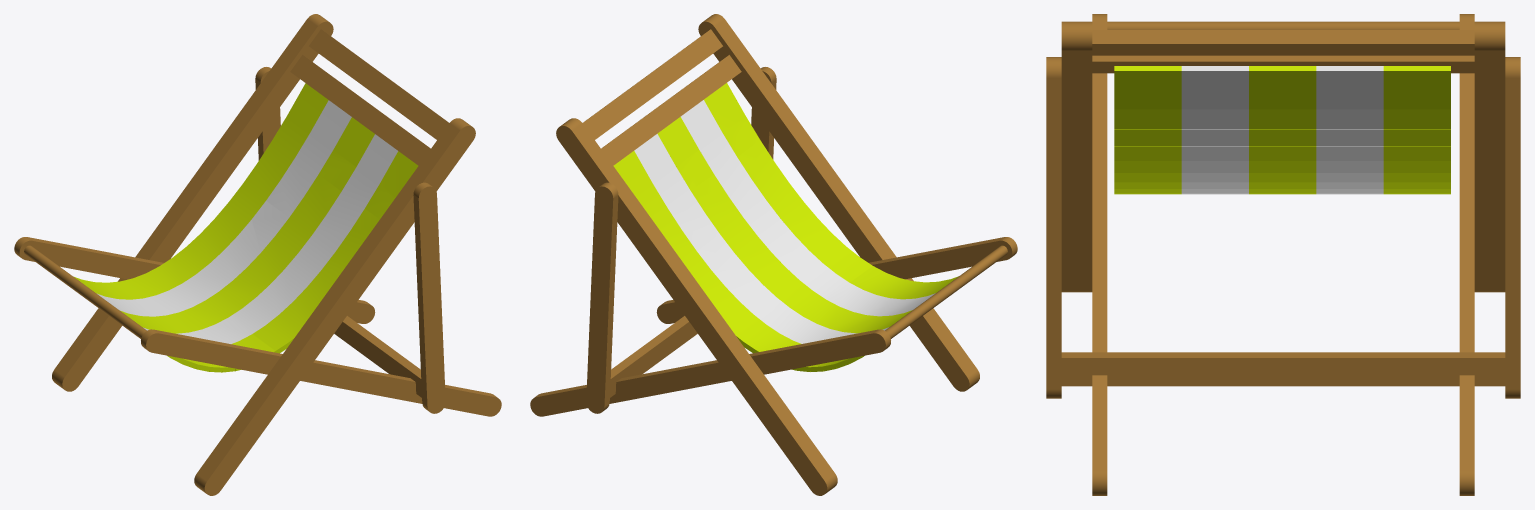
The model's file is sunchair.glb.
3 views of the same model, side by side, from view 1: azimuth 30°, elevation 25°; view 2: azimuth 150°, elevation 25°; view 3: azimuth 270°, elevation 25° (orthographic). The views are drawn at different scales.
Parts seen in each view (by area): view 1: s_s.002, s_s.001; view 2: s_s.002, s_s.001; view 3: s_s.002, s_s.001.
Part boxes in pixels (x1,y1,x2,y2): s_s.002: [14, 14, 501, 495]; s_s.001: [74, 83, 418, 372]; s_s.002: [530, 14, 1017, 495]; s_s.001: [613, 83, 958, 371]; s_s.002: [1046, 14, 1520, 495]; s_s.001: [1114, 66, 1450, 194].
Size of the model in its own units: 1.19 by 0.9863 by 0.9488.
